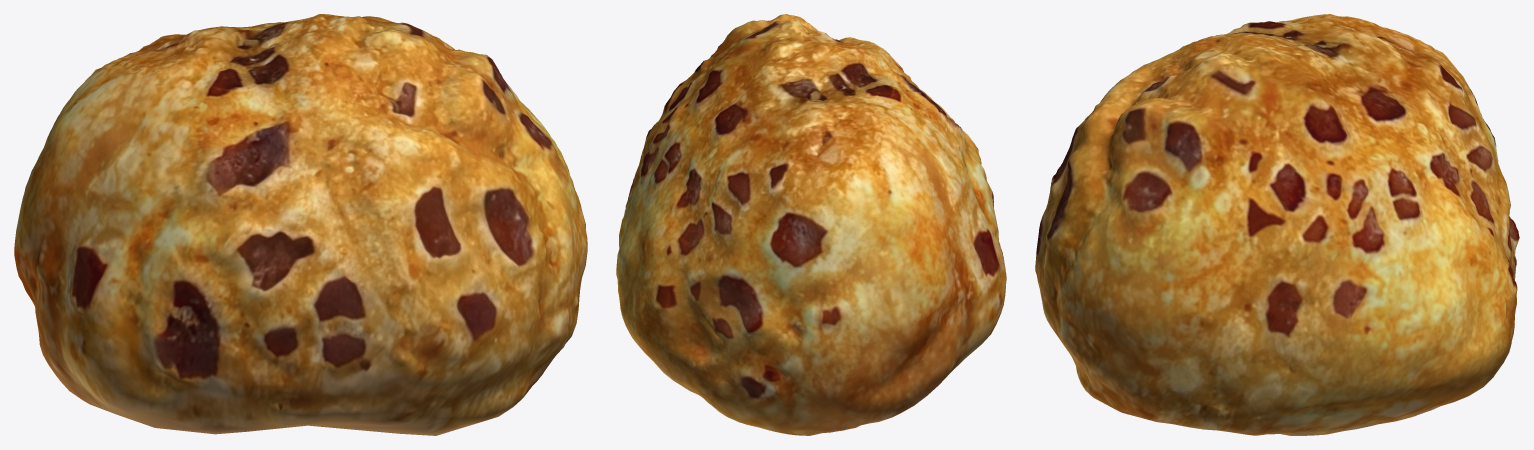
Rendered from makhana-real.glb.
3 renders of one model, left to right at view 1: azimuth 30°, elevation 25°; view 2: azimuth 150°, elevation 25°; view 3: azimuth 270°, elevation 25°, orthographic. The views are drawn at different scales.
Parts seen in each view (by area): view 1: 3DModel; view 2: 3DModel; view 3: 3DModel.
Boxes of the visible parts, left/top/right/bottom form: 3DModel: left=14, top=14, right=587, bottom=435; 3DModel: left=616, top=14, right=1006, bottom=435; 3DModel: left=1035, top=14, right=1519, bottom=435.
Bounding box in the file's own units: 0.1665 × 0.1446 × 0.1656.
Materials: 1 (1 with a texture image).
